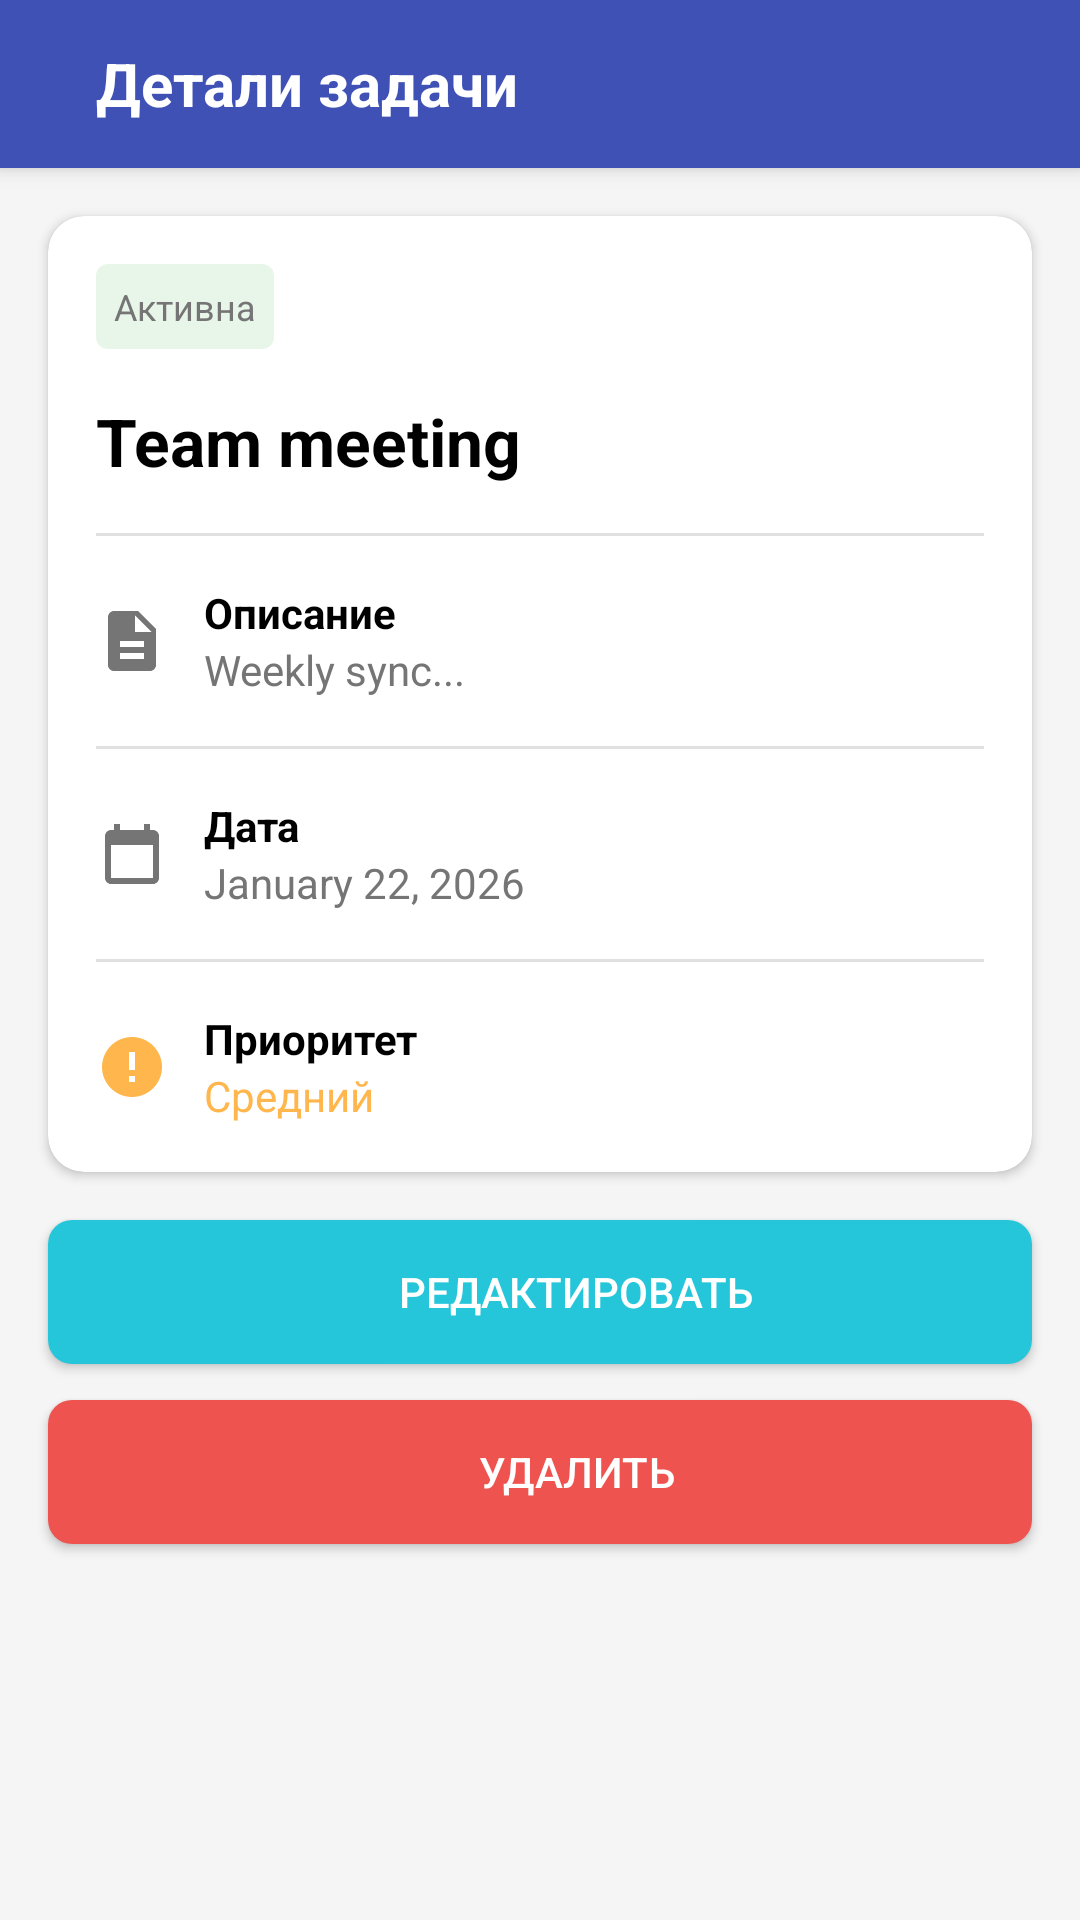

Icon click points for this 1080x1920 phone screenshot, format [x,y]:
calendar: [132,854]
description: [132,641]
priority indicator: [132,1067]
